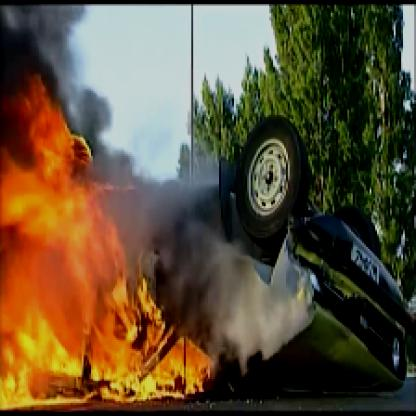Fire: (2, 80, 223, 410)
